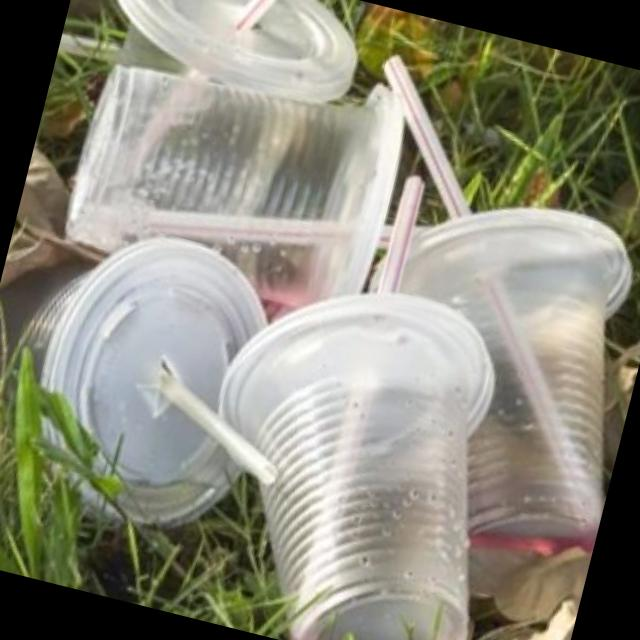electronic: (377, 50, 473, 217), (159, 369, 283, 487), (377, 170, 430, 297), (240, 0, 278, 24)
general: (351, 178, 640, 570), (61, 49, 407, 308)
